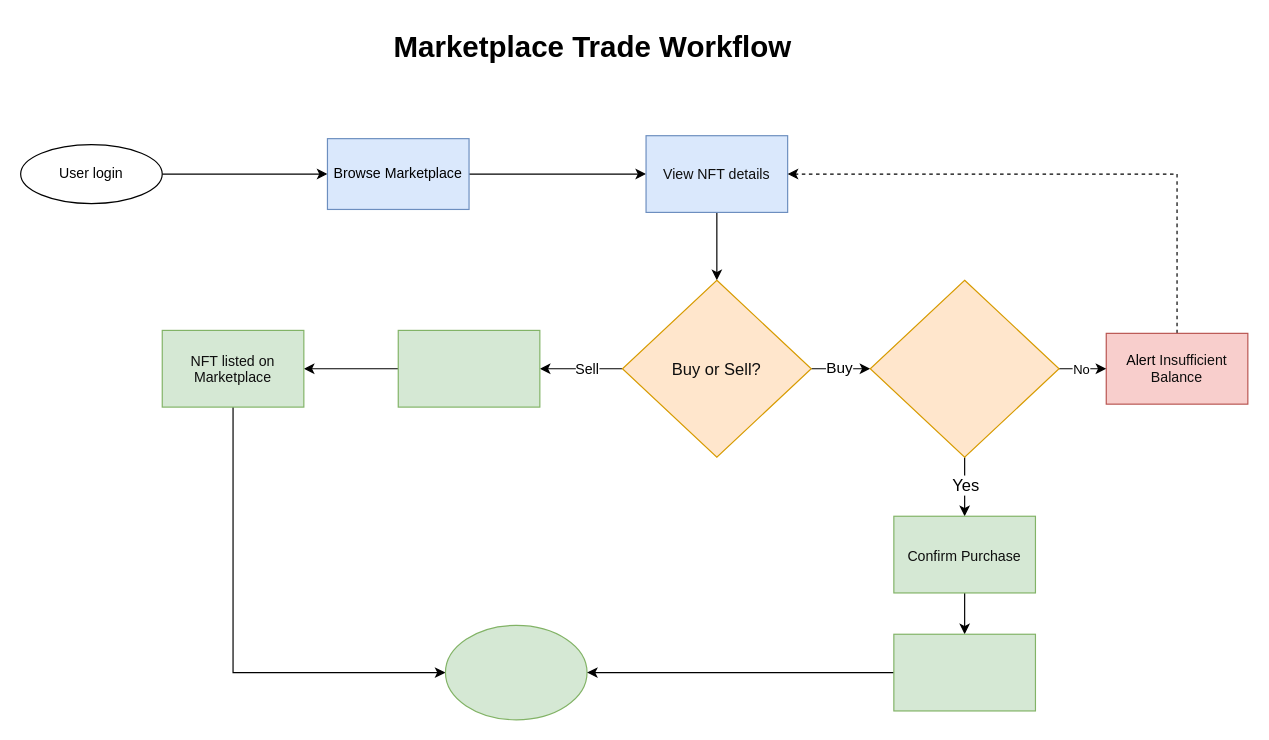
This 1269x740 diagram has some shape labels left out. The shapes that lost their labels are listed below. From the top down, each one's centre as x and y in pixels, then its label:
At point 468,368: "List NFT for Sale".
At point 964,368: "Balance Sufficient?".
At point 515,672: "Lending successful".
At point 964,672: "NFT Transferred to wallet".
